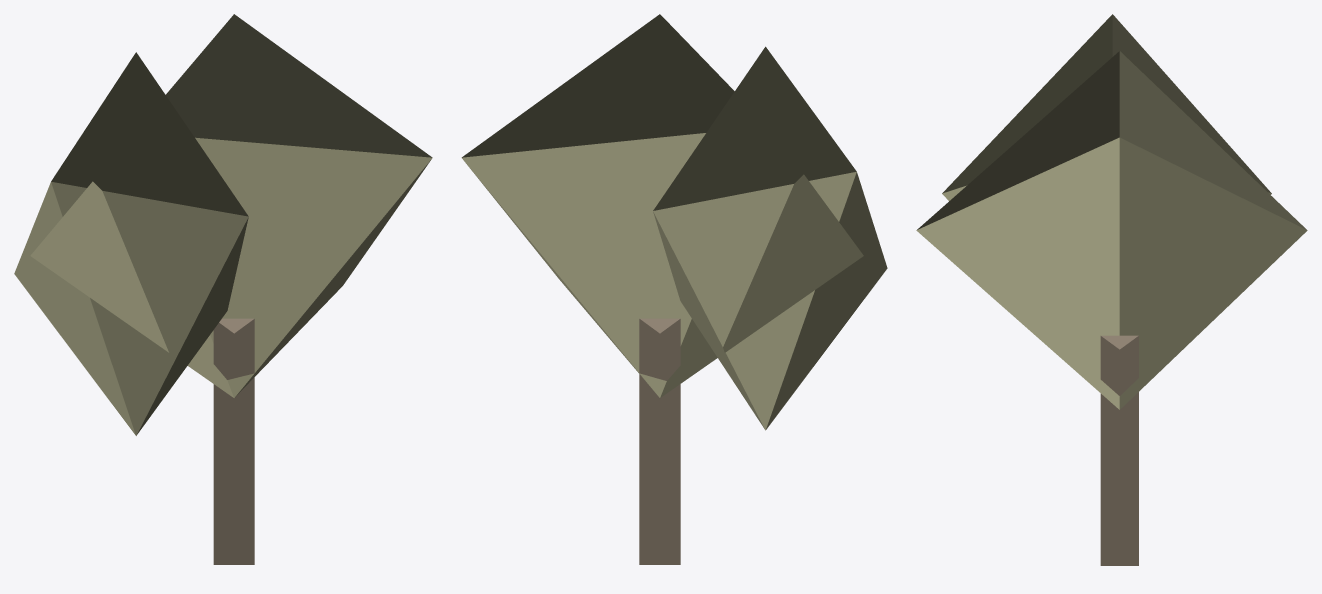
The model's file is sprout.temp.shrub_seedling__winter.glb.
3 views of the same model, side by side, from view 1: azimuth 30°, elevation 25°; view 2: azimuth 150°, elevation 25°; view 3: azimuth 270°, elevation 25° (orthographic). The views are drawn at different scales.
Parts seen in each view (by area): view 1: sprout.temp.shrub_seedling__winter; view 2: sprout.temp.shrub_seedling__winter; view 3: sprout.temp.shrub_seedling__winter.
Boxes of the visible parts, bbox=[...] form: sprout.temp.shrub_seedling__winter: bbox=[14, 14, 432, 564]; sprout.temp.shrub_seedling__winter: bbox=[461, 14, 887, 564]; sprout.temp.shrub_seedling__winter: bbox=[916, 14, 1307, 565].
Size of the model in its own units: 0.5383 by 0.677 by 0.462.
